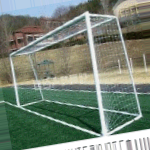goals: (7, 9, 143, 135)
